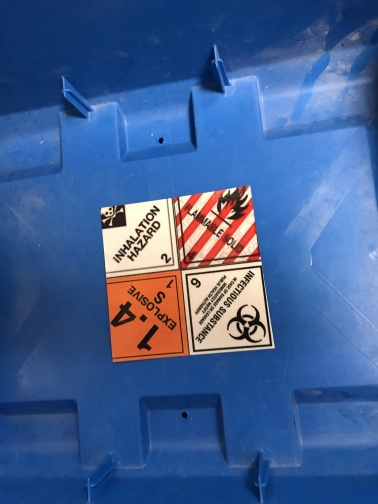Explosive: (106, 271, 191, 360)
FlammableSolid: (173, 186, 261, 269)
InfectiousSubstance: (179, 262, 276, 354)
InhalationHazard: (101, 198, 179, 277)
